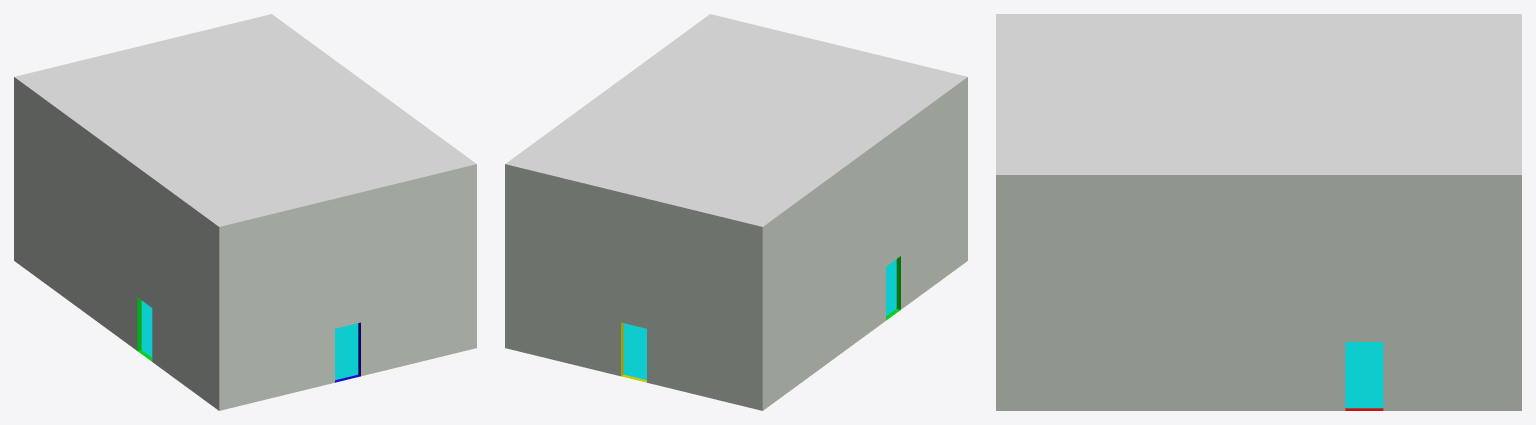
Rendered from dungeon_room_2.fbx.
3 renders of one model, left to right at view 1: azimuth 30°, elevation 25°; view 2: azimuth 150°, elevation 25°; view 3: azimuth 270°, elevation 25°, orthographic. The views are drawn at different scales.
Visible parts, largest first — view 1: Room2; view 2: Room2; view 3: Room2.
Part boxes in pixels (bbox=[...]): Room2: bbox=[14, 14, 476, 410]; Room2: bbox=[505, 14, 967, 410]; Room2: bbox=[996, 14, 1521, 410].
Size of the model in its own units: 1000 by 1379 by 682.
